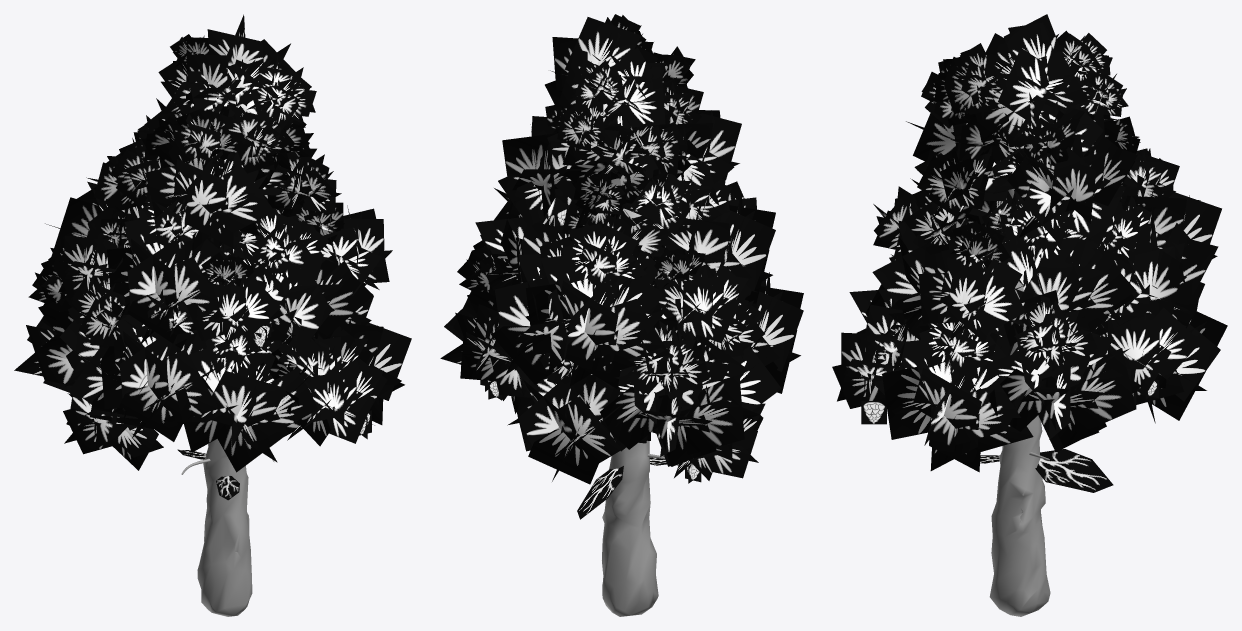
The model's file is pine_tree_full.fbx.
The picture shows the model from 3 angles, left to right: view 1: azimuth 30°, elevation 25°; view 2: azimuth 150°, elevation 25°; view 3: azimuth 270°, elevation 25°; orthographic projection. The views are drawn at different scales.
Parts seen in each view (by area): view 1: polySurface4255, polySurface4143, pPlane74; view 2: polySurface4255, polySurface4143, pPlane74; view 3: polySurface4255, polySurface4143, pPlane74.
Boxes of the visible parts, x1,y1,x2,y2 form: polySurface4255: [14, 14, 411, 472]; polySurface4143: [138, 322, 274, 616]; pPlane74: [209, 236, 371, 439]; polySurface4255: [440, 14, 803, 484]; polySurface4143: [492, 325, 721, 616]; pPlane74: [480, 209, 701, 483]; polySurface4255: [832, 14, 1227, 472]; polySurface4143: [980, 189, 1113, 616]; pPlane74: [861, 235, 1158, 424].
Bounding box in the file's own units: 1399 × 2436 × 1452.
